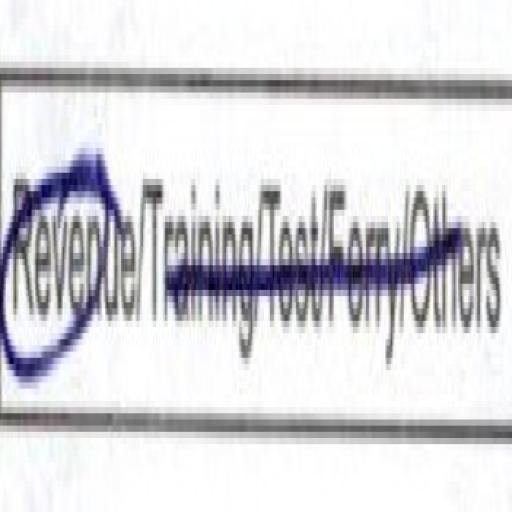check: (0, 0, 143, 501)
